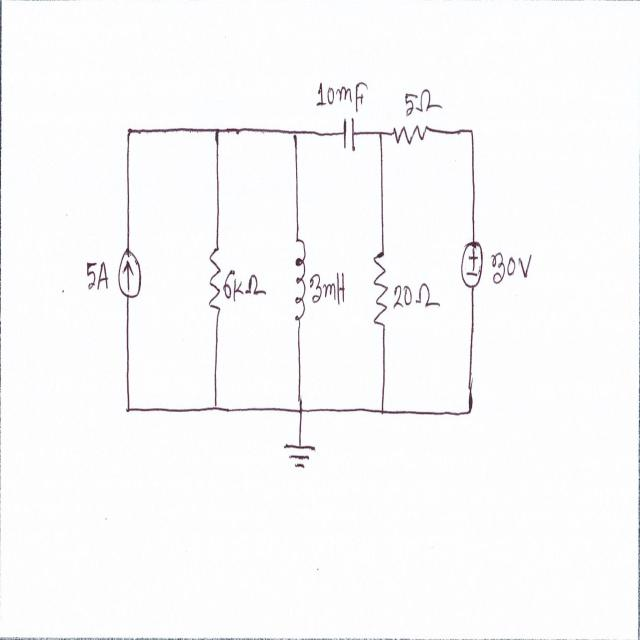capacitor: (342, 112, 356, 155)
current_source: (117, 244, 145, 301)
ground: (282, 438, 317, 474)
inductor: (293, 236, 307, 332)
resistor: (371, 245, 389, 332), (390, 119, 430, 154), (208, 240, 222, 314)
voltage_source: (461, 236, 484, 289)
